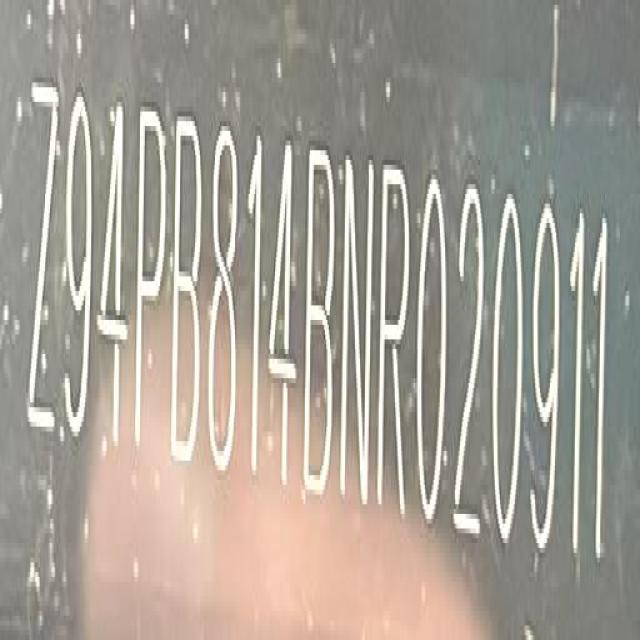0: (414, 176, 448, 532), (492, 192, 525, 555)
1: (592, 208, 612, 568), (248, 135, 268, 488), (568, 203, 584, 560)
2: (453, 183, 485, 545)
4: (98, 95, 132, 457), (267, 136, 298, 488)
8: (210, 120, 241, 474)
9: (528, 201, 562, 560), (62, 90, 93, 452)
B: (171, 110, 206, 472), (306, 146, 338, 502)
N: (342, 153, 377, 517)
P: (133, 101, 166, 468)
R: (380, 168, 413, 521)
Z: (23, 77, 58, 435)
